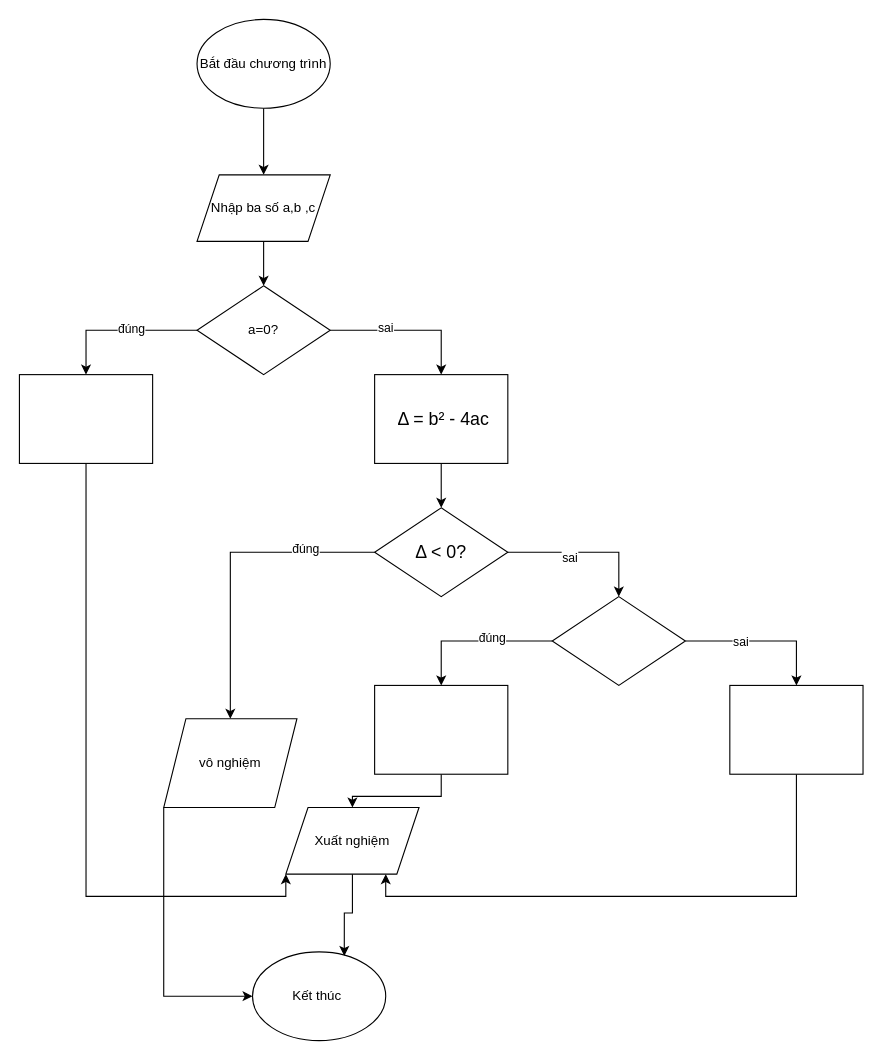
Image size: 882x1060. Some labels were removed from this diagram. Each missing label, with the box of its shape:
bx + c = 0: (18, 374, 153, 463)
x = -b / (2a): (374, 684, 508, 774)
x₁ = (-b + √Δ) / (2a) x₂ = (-b - √Δ) / (2a): (729, 684, 863, 774)
Δ = 0?: (551, 596, 685, 685)
